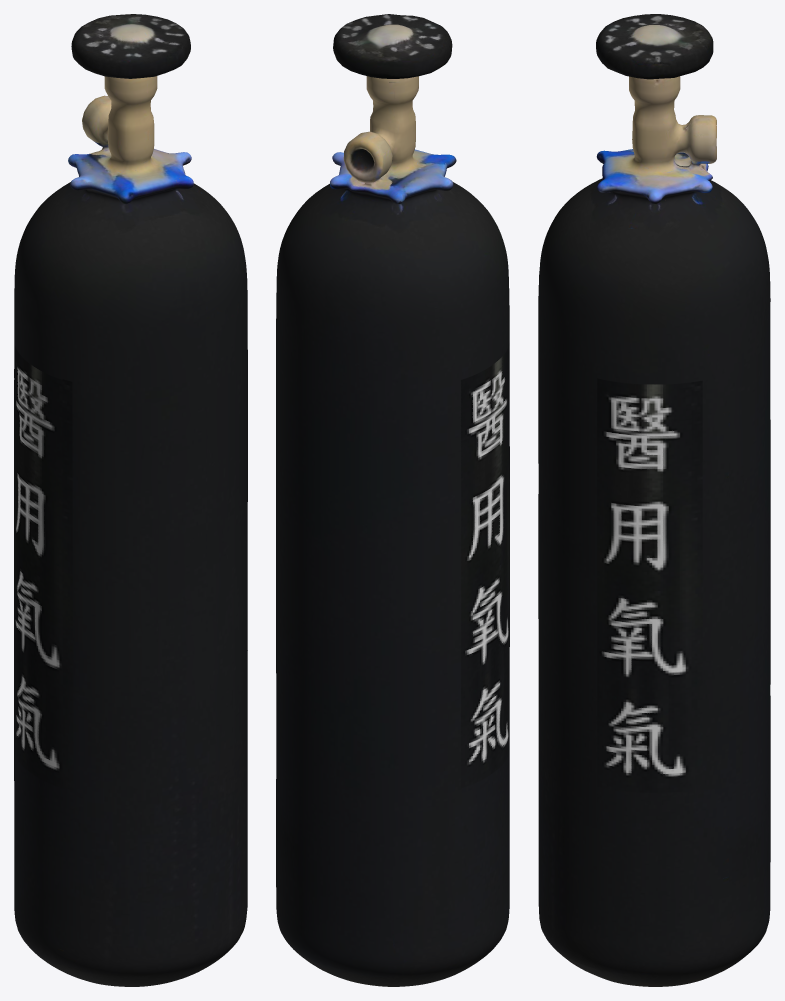
Rendered from 氧氣鋼瓶.fbx.
3 renders of one model, left to right at view 1: azimuth 30°, elevation 25°; view 2: azimuth 150°, elevation 25°; view 3: azimuth 270°, elevation 25°, orthographic.
Visible parts, largest first — view 1: tripo_node_d280a98d-97d4-4d73-bee4-24932670ed11; view 2: tripo_node_d280a98d-97d4-4d73-bee4-24932670ed11; view 3: tripo_node_d280a98d-97d4-4d73-bee4-24932670ed11.
Part boxes in pixels (x1,y1,x2,y2): tripo_node_d280a98d-97d4-4d73-bee4-24932670ed11: (14, 14, 247, 986); tripo_node_d280a98d-97d4-4d73-bee4-24932670ed11: (276, 14, 509, 986); tripo_node_d280a98d-97d4-4d73-bee4-24932670ed11: (538, 14, 770, 986).
Size of the model in its own units: 21.32 by 94.85 by 21.3.
